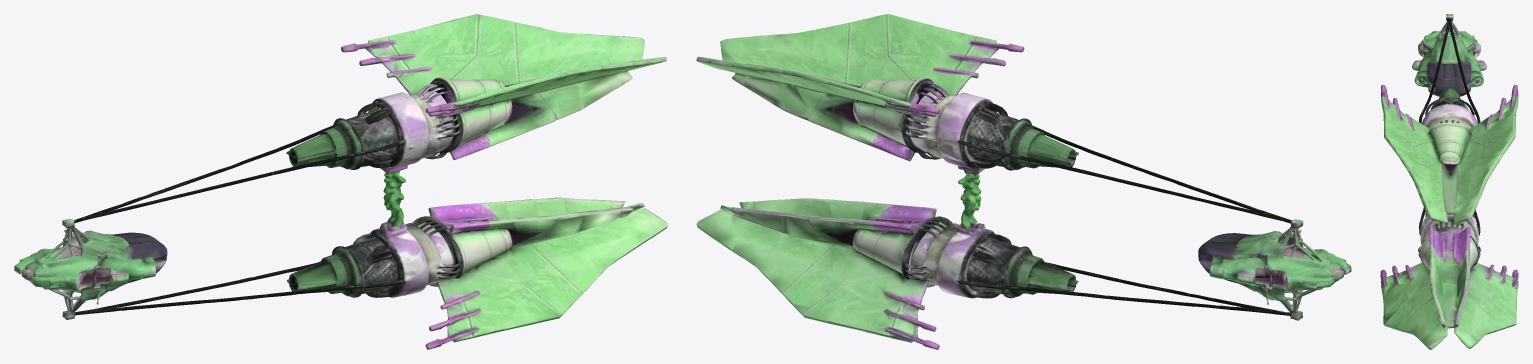
Rendered from pod-lancier.glb.
3 views of the same model, side by side, from view 1: azimuth 30°, elevation 25°; view 2: azimuth 150°, elevation 25°; view 3: azimuth 270°, elevation 25° (orthographic). The views are drawn at different scales.
Visible parts, largest first — view 1: mesh_node; view 2: mesh_node; view 3: mesh_node.
Part boxes in pixels (box(x1,y1,x2,y2)): mesh_node: box(14, 14, 667, 349); mesh_node: box(696, 14, 1351, 349); mesh_node: box(1380, 14, 1518, 349).
Bounding box in the file's own units: 1.91 × 0.7053 × 0.4603.
1 material, 1 textured.
